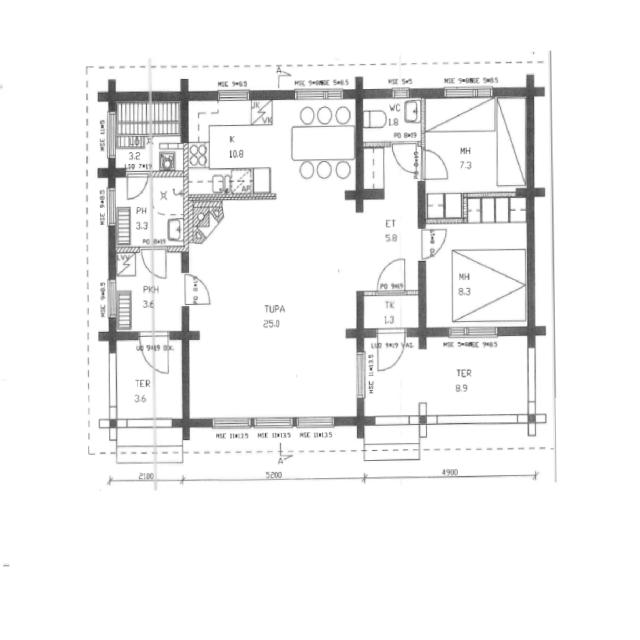door: (375, 328, 407, 375), (179, 268, 216, 308), (418, 145, 453, 184), (374, 254, 408, 294), (390, 138, 422, 178), (138, 331, 167, 374), (418, 224, 450, 260), (140, 246, 168, 280), (124, 170, 150, 202)
window: (429, 411, 526, 429), (524, 341, 541, 418), (447, 322, 504, 342), (440, 84, 497, 102), (106, 346, 120, 418), (353, 346, 369, 404), (291, 86, 348, 102), (208, 413, 254, 432), (104, 105, 118, 165), (293, 413, 338, 431), (250, 414, 296, 431), (370, 412, 416, 428), (104, 184, 118, 231), (105, 276, 118, 323), (214, 87, 252, 103), (388, 86, 413, 99)
zone: (189, 196, 358, 424), (186, 96, 362, 196), (361, 331, 535, 420), (422, 195, 530, 327), (420, 92, 529, 200), (111, 247, 186, 333), (115, 96, 187, 172), (361, 93, 424, 146), (114, 172, 154, 248), (151, 172, 186, 245), (360, 291, 422, 332)
